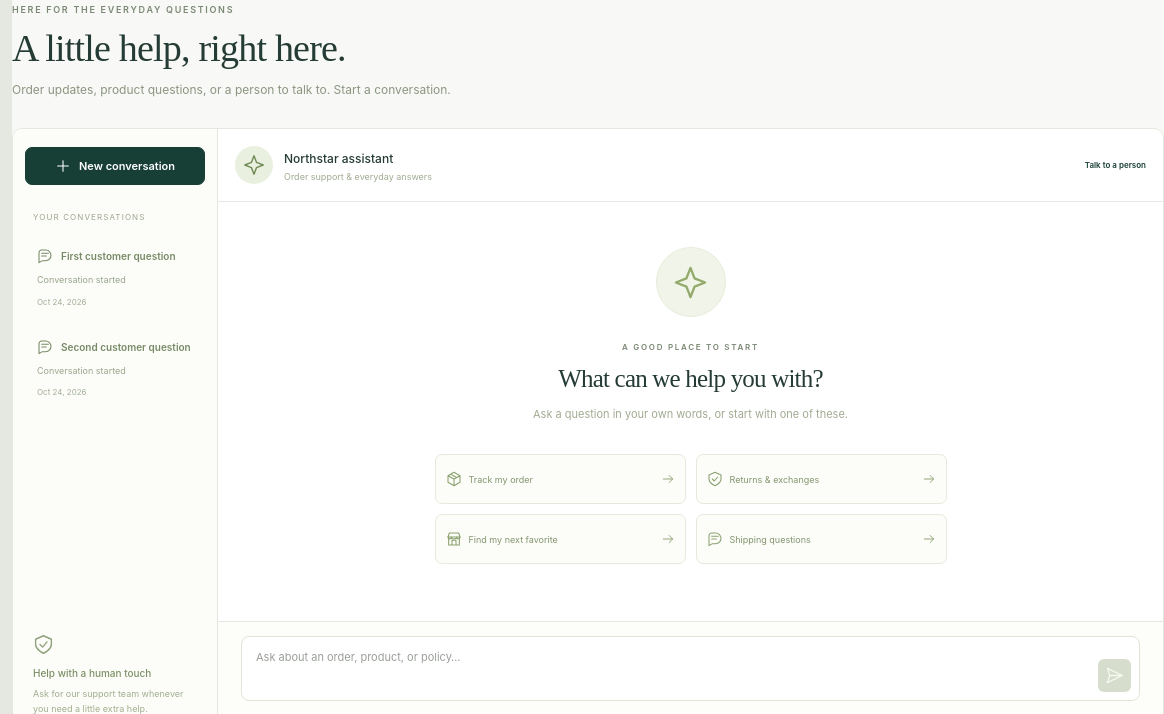
customer navigation while history is loading › can return to the loaded conversation while a different history request is pending
This screenshot has width=1164, height=714.
Click the button "First customer question Conversation started Oct 24, 2026". click: (115, 277)
box: [25, 234, 205, 321]
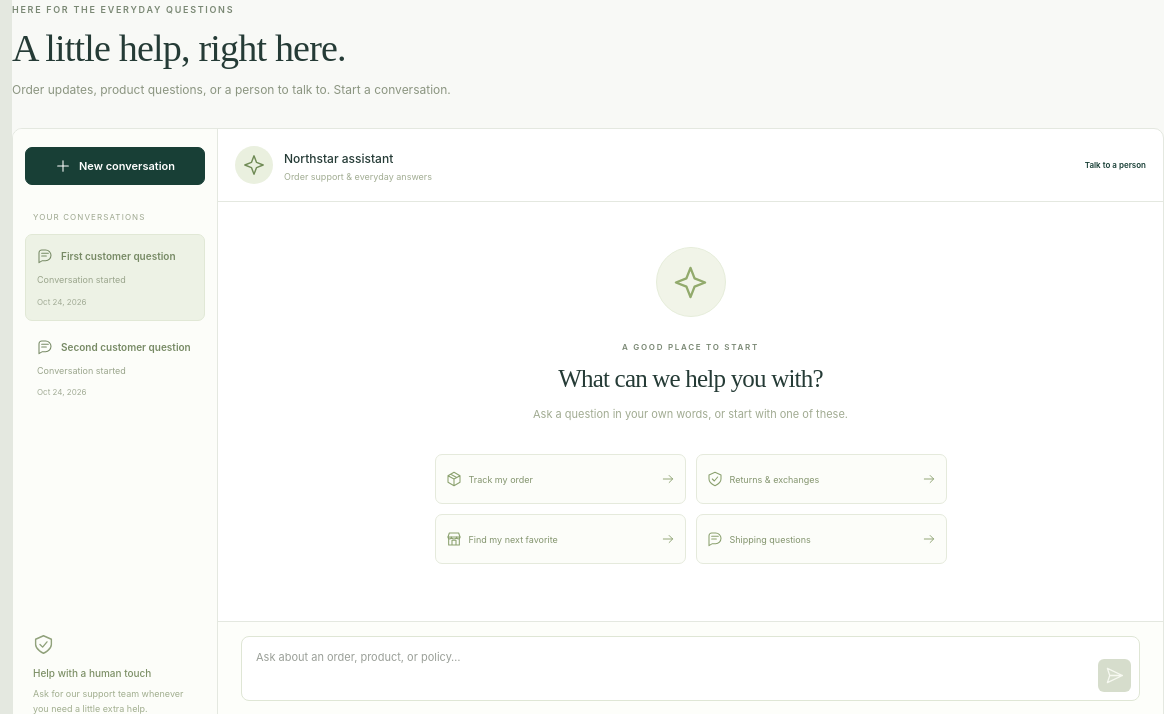
Expected: the text box named "Message" is enabled, [241, 636, 1140, 701]
Click the button "Second customer question Conversation started Oct 24, 2026". click: (115, 368)
box: [25, 325, 205, 411]
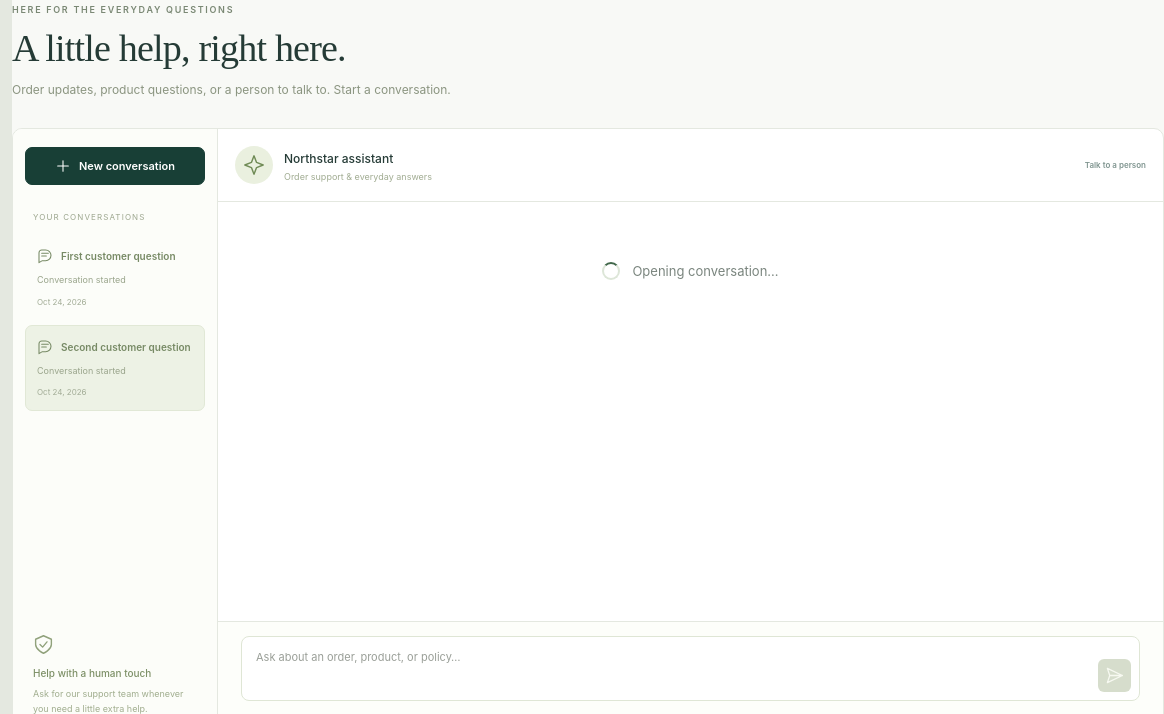
Result: the text "Opening conversation…" is shown at [602, 262, 778, 280]
Click the button "First customer question Conversation started Oct 24, 2026". click: (115, 277)
box: [25, 234, 205, 321]
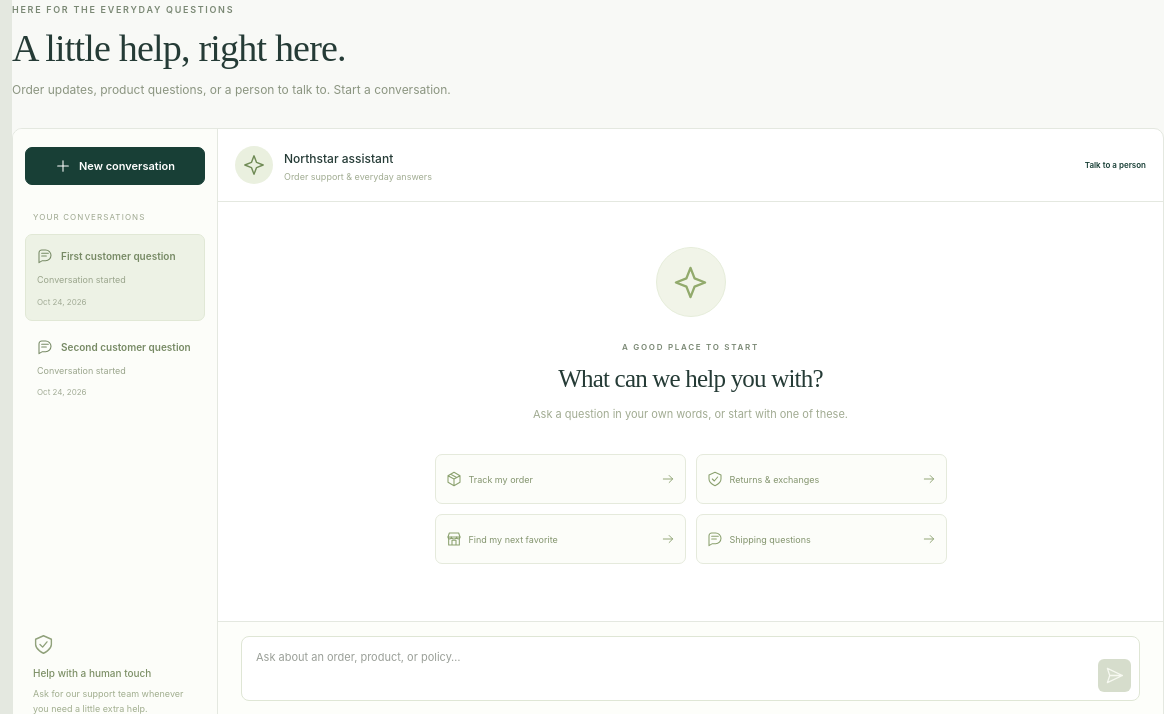
Expected: the text box named "Message" is enabled, [241, 636, 1140, 701]
Result: the text "Opening conversation…" is gone
